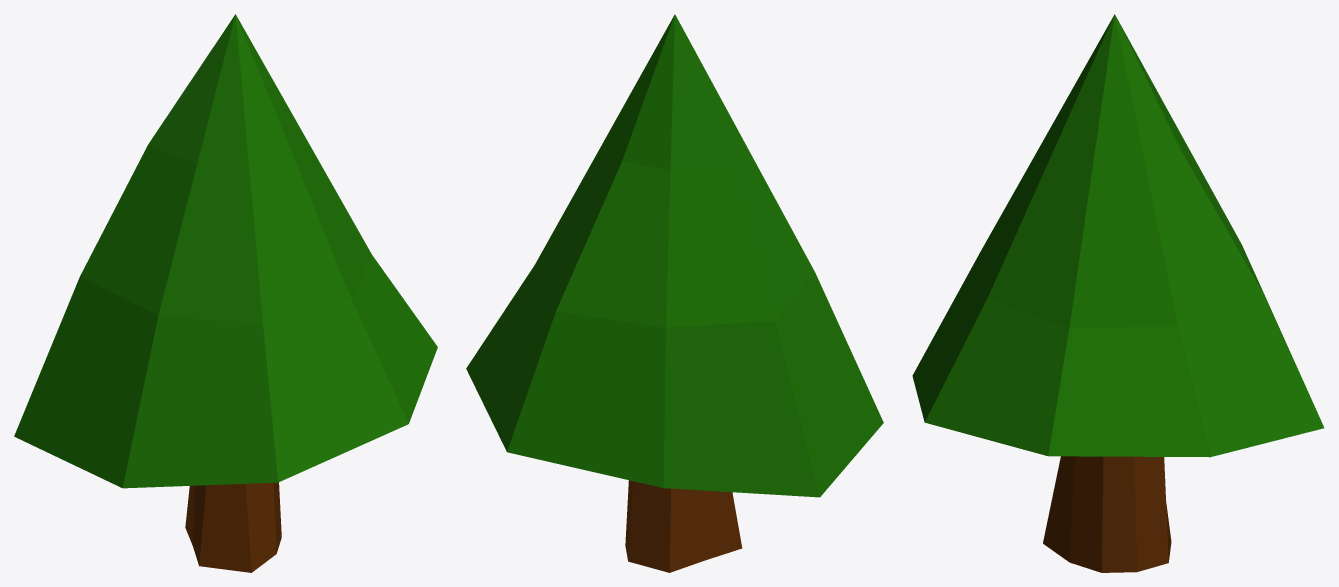
The model's file is pine-02.fbx.
3 views of the same model, side by side, from view 1: azimuth 30°, elevation 25°; view 2: azimuth 150°, elevation 25°; view 3: azimuth 270°, elevation 25° (orthographic). The views are drawn at different scales.
Visible parts, largest first — view 1: tree, trunk; view 2: tree, trunk; view 3: tree, trunk.
Part boxes in pixels (x1=…): tree: x1=14, y1=14, x2=437, y2=488; trunk: x1=185, y1=482, x2=281, y2=572; tree: x1=466, y1=14, x2=883, y2=497; trunk: x1=625, y1=480, x2=742, y2=572; tree: x1=912, y1=14, x2=1324, y2=457; trunk: x1=1043, y1=456, x2=1171, y2=572.
Size of the model in its own units: 3.17 by 4.54 by 3.14.
